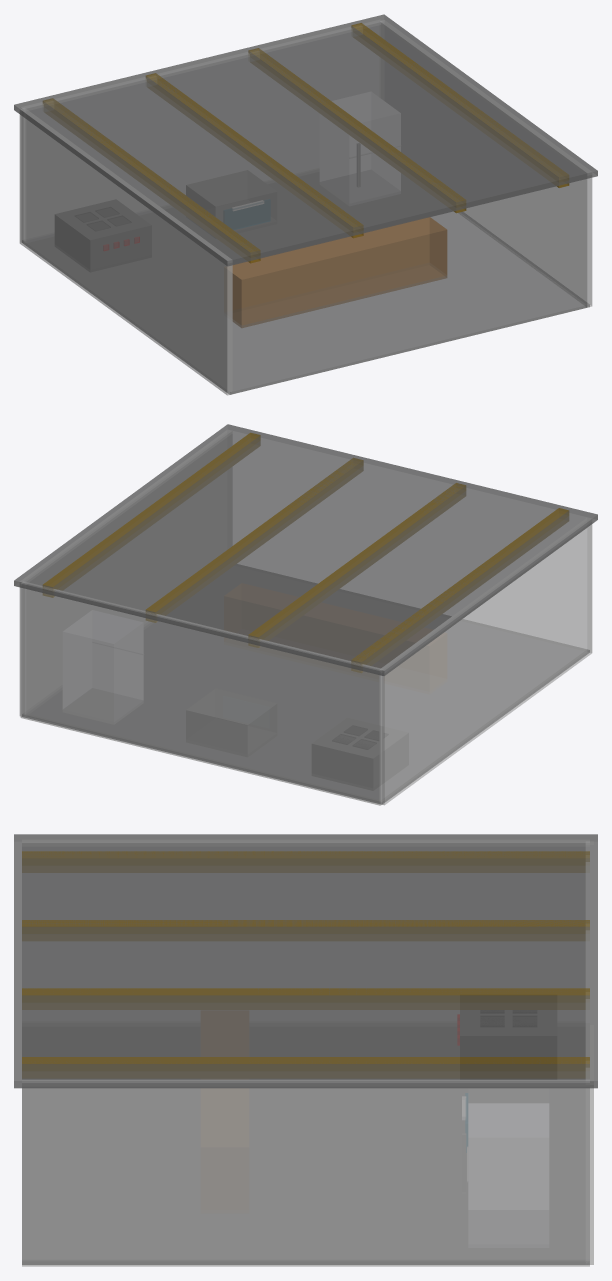
Rendered from Cafe.glb.
The picture shows the model from 3 angles, top to bottom: view 1: azimuth 30°, elevation 25°; view 2: azimuth 150°, elevation 25°; view 3: azimuth 270°, elevation 25°; orthographic projection. The views are drawn at different scales.
Parts seen in each view (by area): view 1: Building_Pro; view 2: Building_Pro; view 3: Building_Pro.
Part boxes in pixels (bbox=[...]): Building_Pro: bbox=[14, 14, 597, 395]; Building_Pro: bbox=[14, 424, 597, 805]; Building_Pro: bbox=[14, 834, 597, 1266].
Size of the model in its own units: 14.4 by 5.1 by 14.4.
